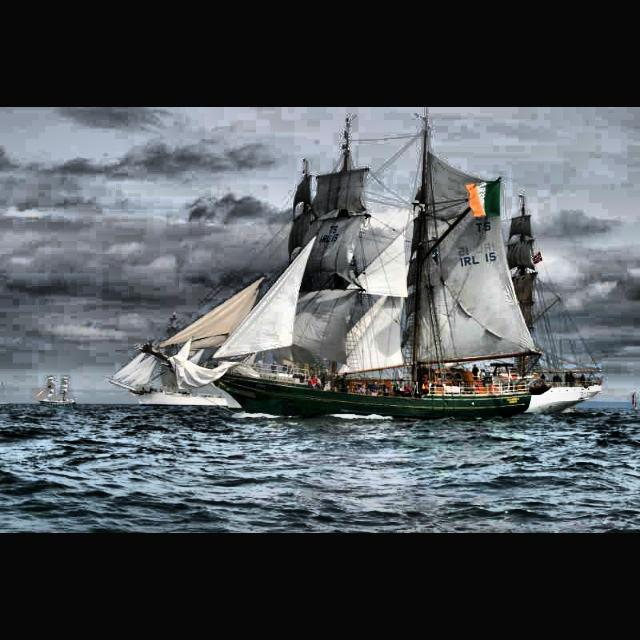sailing_vessel: (140, 113, 602, 417), (107, 312, 230, 408), (32, 375, 78, 405)
